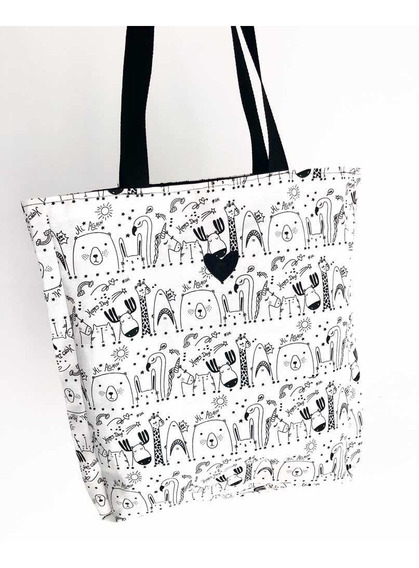cartera: (22, 24, 364, 521)
